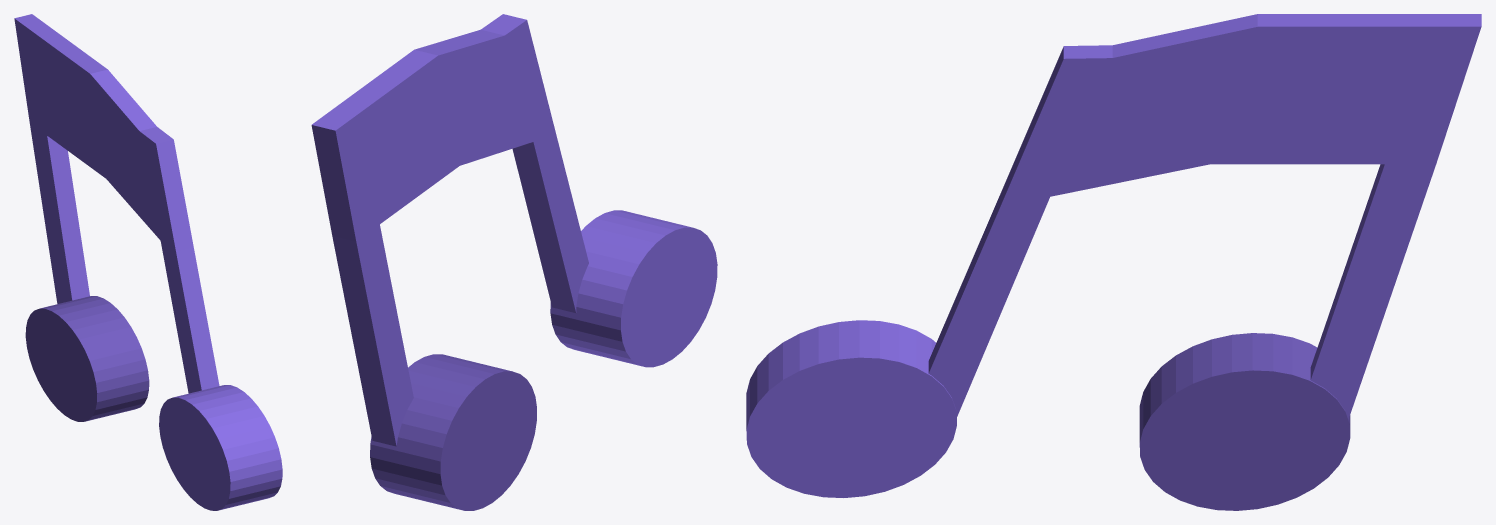
File: music.fbx
3 renders of one model, left to right at view 1: azimuth 30°, elevation 25°; view 2: azimuth 150°, elevation 25°; view 3: azimuth 270°, elevation 25°, orthographic. The views are drawn at different scales.
Visible parts, largest first — view 1: Cube, Cylinder, Cylinder.001; view 2: Cube, Cylinder, Cylinder.001; view 3: Cube, Cylinder, Cylinder.001.
Boxes of the visible parts, x1=… form: Cube: x1=14, y1=14, x2=219, y2=393; Cylinder: x1=159, y1=385, x2=282, y2=510; Cylinder.001: x1=25, y1=296, x2=149, y2=421; Cube: x1=311, y1=14, x2=588, y2=446; Cylinder: x1=550, y1=210, x2=717, y2=367; Cylinder.001: x1=370, y1=354, x2=536, y2=510; Cube: x1=928, y1=14, x2=1481, y2=419; Cylinder: x1=746, y1=320, x2=956, y2=497; Cylinder.001: x1=1139, y1=333, x2=1350, y2=510.
Bounding box in the file's own units: 26.57 × 160 × 220.
